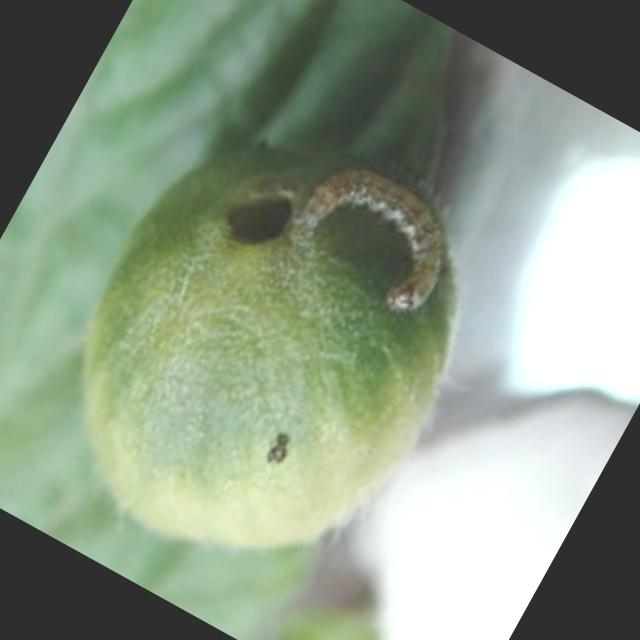Cotton bollworm: (236, 107, 507, 366)
